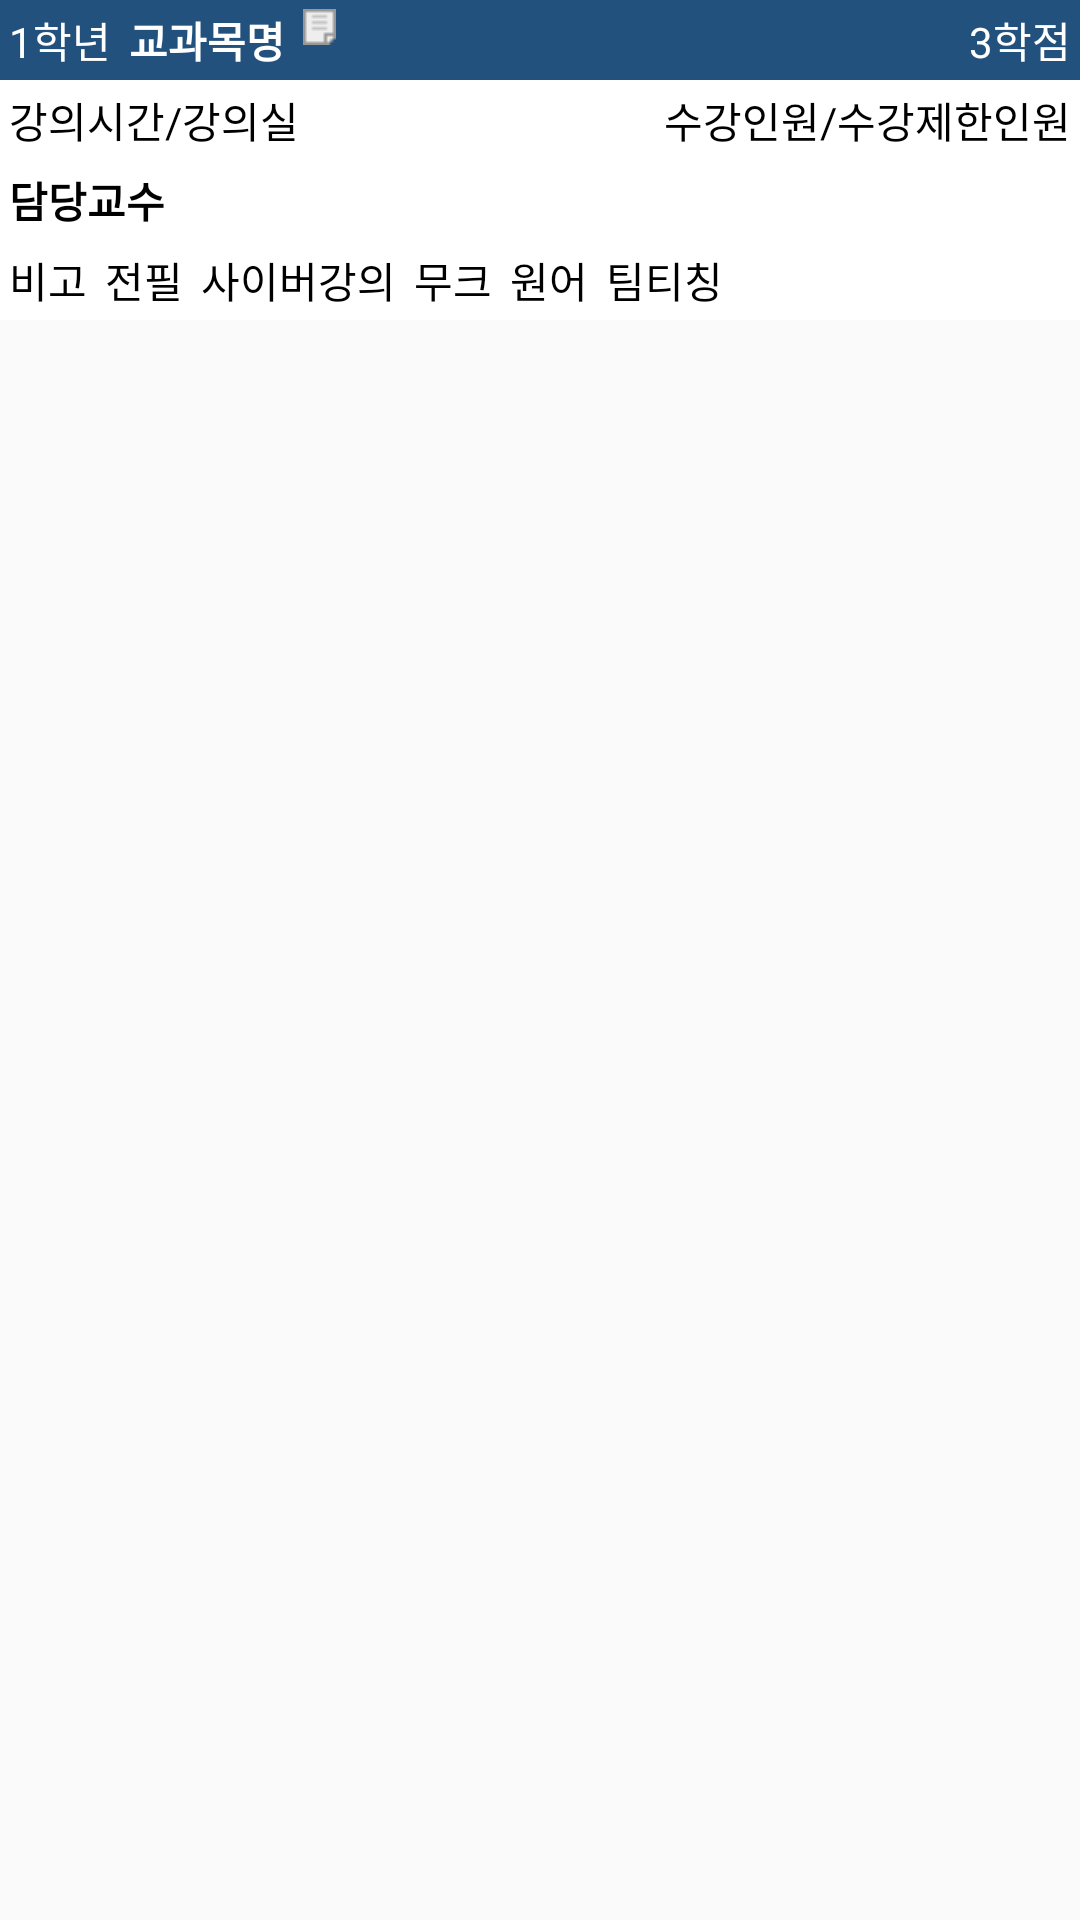

Icon click points for this 1080×1920 phone screenshot, format [x,y]:
file: [319,27]
